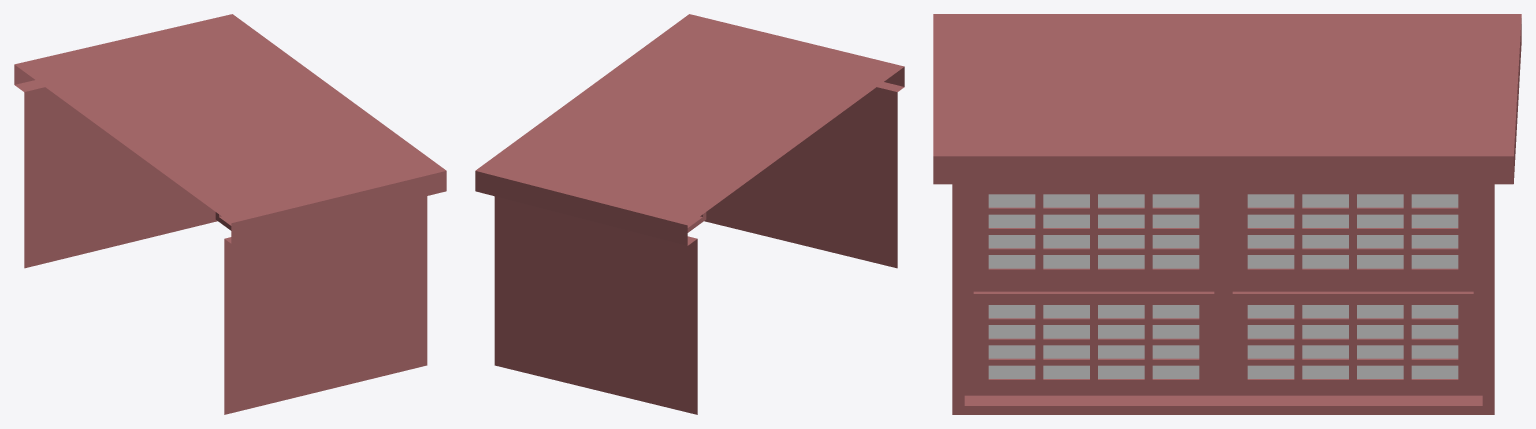
Rendered from tumba.fbx.
3 views of the same model, side by side, from view 1: azimuth 30°, elevation 25°; view 2: azimuth 150°, elevation 25°; view 3: azimuth 270°, elevation 25° (orthographic). The views are drawn at different scales.
Visible parts, largest first — view 1: Куб.038; view 2: Куб.038; view 3: Куб.038.
Boxes of the visible parts, x1,y1,x2,y2 form: Куб.038: (14, 14, 446, 414); Куб.038: (475, 14, 904, 414); Куб.038: (933, 14, 1521, 414).
Bounding box in the file's own units: 134 × 117 × 233.
